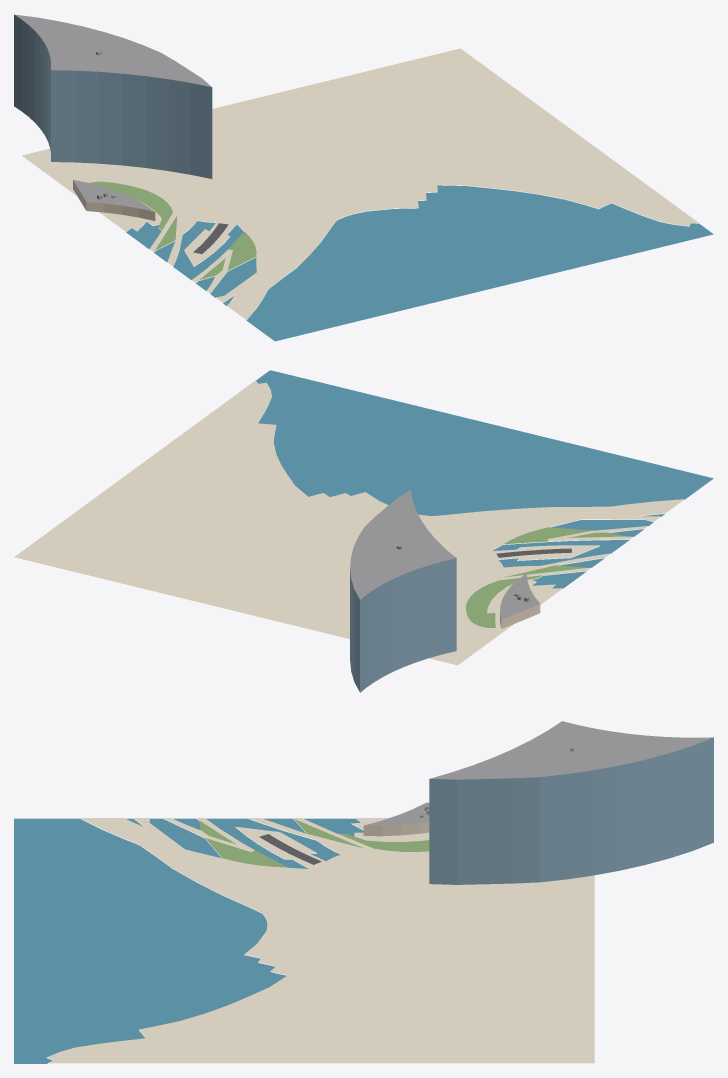
Rendered from tile_-1_1_far.glb.
The picture shows the model from 3 angles, top to bottom: view 1: azimuth 30°, elevation 25°; view 2: azimuth 150°, elevation 25°; view 3: azimuth 270°, elevation 25°; orthographic projection. The views are drawn at different scales.
Parts seen in each view (by area): view 1: nature_ground, nature_water, buildings_glass_blue, buildings_roof, nature_grass, buildings_sandstone; view 2: nature_ground, nature_water, buildings_glass_blue, buildings_roof, nature_grass; view 3: nature_ground, nature_water, buildings_glass_blue, buildings_roof, nature_grass, buildings_sandstone.
Part boxes in pixels (left/top/right/bottom): nature_ground: left=22, top=48, right=698, bottom=319; nature_water: left=126, top=185, right=713, bottom=341; buildings_glass_blue: left=14, top=14, right=212, bottom=178; buildings_roof: left=15, top=14, right=211, bottom=211; nature_grass: left=89, top=181, right=256, bottom=280; buildings_sandstone: left=73, top=180, right=155, bottom=220; nature_ground: left=14, top=380, right=684, bottom=665; nature_water: left=256, top=370, right=713, bottom=588; buildings_glass_blue: left=350, top=558, right=456, bottom=692; buildings_roof: left=350, top=490, right=540, bottom=619; nature_grass: left=466, top=527, right=626, bottom=627; nature_ground: left=46, top=818, right=594, bottom=1063; nature_water: left=14, top=818, right=363, bottom=1063; buildings_glass_blue: left=429, top=737, right=713, bottom=884; buildings_roof: left=364, top=721, right=713, bottom=825; nature_grass: left=199, top=819, right=429, bottom=867; buildings_sandstone: left=363, top=822, right=429, bottom=836.
Size of the model in its own units: 255 by 51.64 by 301.
